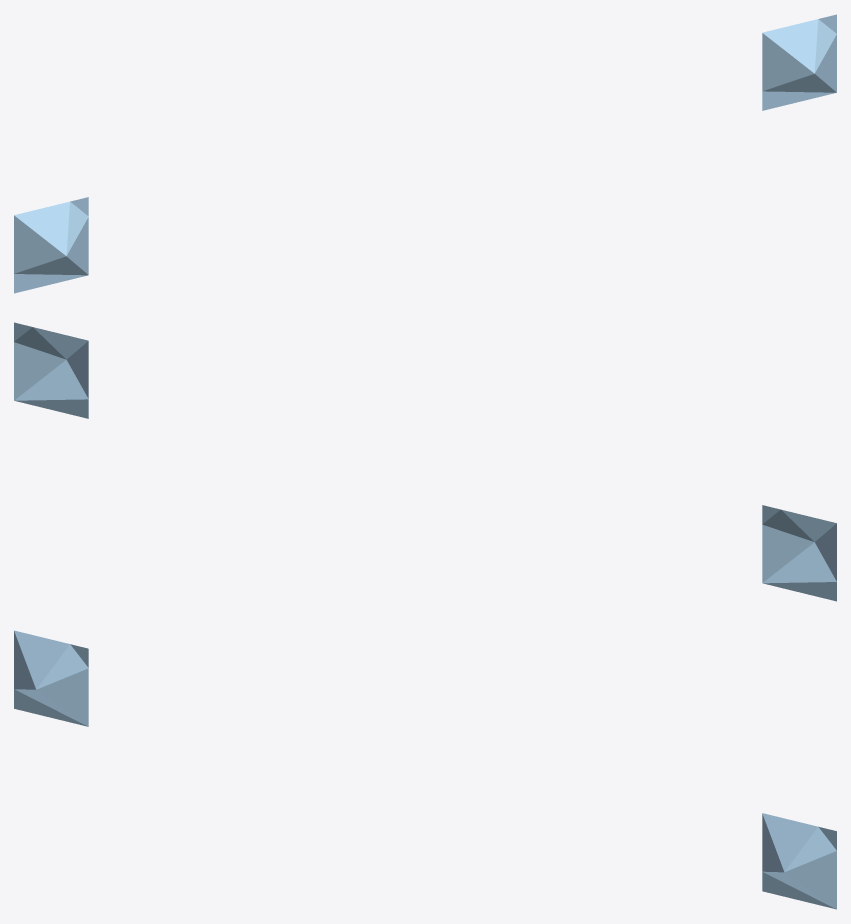
3 renders of one model, top to bottom at view 1: azimuth 30°, elevation 25°; view 2: azimuth 150°, elevation 25°; view 3: azimuth 330°, elevation 25°, orthographic.
Visible parts, largest first — view 1: equipment-0, equipment-1; view 2: equipment-0, equipment-1; view 3: equipment-0, equipment-1.
Part boxes in pixels (x1,y1,x2,y2): equipment-0: (14, 197, 88, 293); equipment-1: (762, 14, 836, 110); equipment-0: (762, 505, 836, 601); equipment-1: (14, 322, 88, 418); equipment-0: (14, 630, 88, 726); equipment-1: (762, 813, 836, 909).
Size of the model in its own units: 11 by 1 by 0.35.
